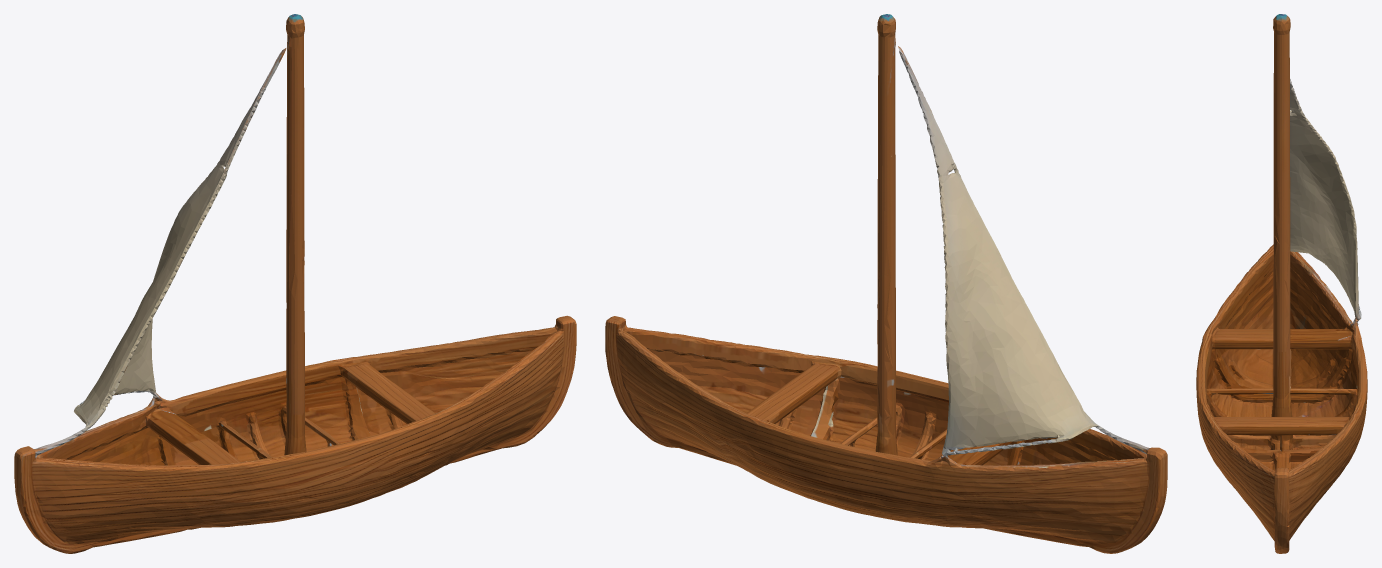
Rendered from boat.glb.
3 views of the same model, side by side, from view 1: azimuth 30°, elevation 25°; view 2: azimuth 150°, elevation 25°; view 3: azimuth 270°, elevation 25° (orthographic). The views are drawn at different scales.
Parts seen in each view (by area): view 1: textured_mesh.obj; view 2: textured_mesh.obj; view 3: textured_mesh.obj.
Part boxes in pixels (x1,y1,x2,y2): textured_mesh.obj: [14, 14, 576, 553]; textured_mesh.obj: [605, 14, 1167, 553]; textured_mesh.obj: [1196, 14, 1367, 553].
Bounding box in the file's own units: 1.99 × 1.67 × 0.5828.
Materials: 1 (1 with a texture image).
